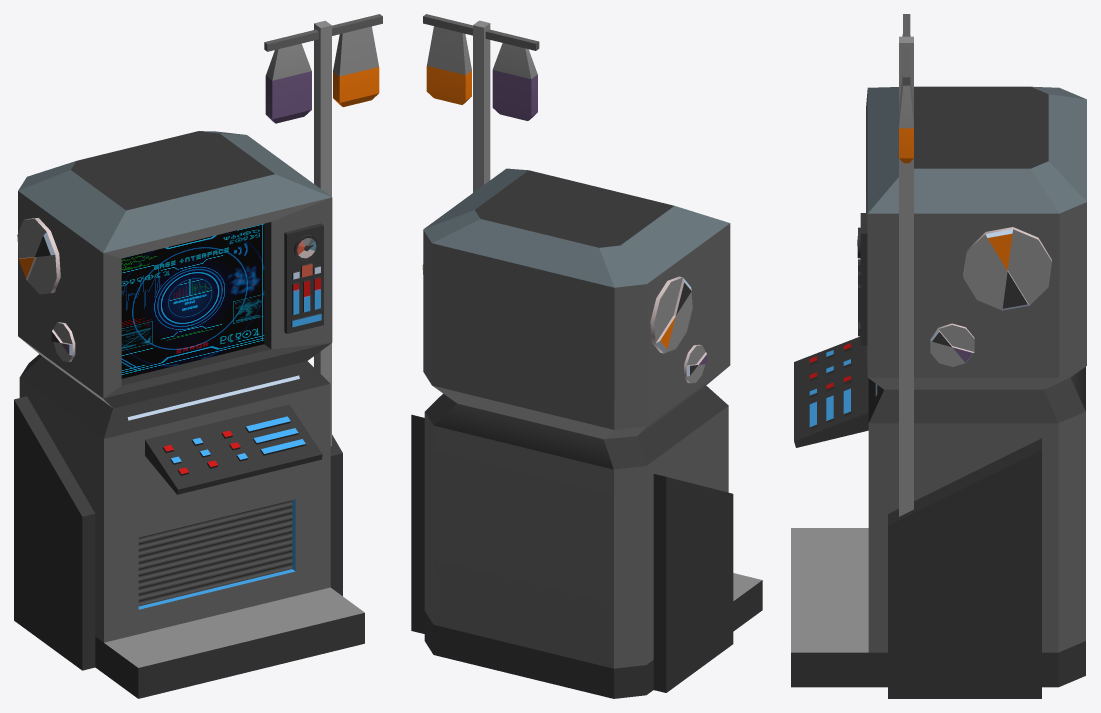
Rendered from Equipment_1_SciFi.fbx.
3 views of the same model, side by side, from view 1: azimuth 30°, elevation 25°; view 2: azimuth 150°, elevation 25°; view 3: azimuth 270°, elevation 25° (orthographic). The views are drawn at different scales.
Visible parts, largest first — view 1: Equipment_1_SciFi, Equipment_Cylinder_1, Equipment_Cylinder_2; view 2: Equipment_1_SciFi, Equipment_Cylinder_1, Equipment_Cylinder_2; view 3: Equipment_1_SciFi, Equipment_Cylinder_1, Equipment_Cylinder_2.
Part boxes in pixels (x1,y1,x2,y2): Equipment_1_SciFi: (14,14,382,698); Equipment_Cylinder_1: (17,218,60,294); Equipment_Cylinder_2: (51,322,75,361); Equipment_1_SciFi: (411,14,762,698); Equipment_Cylinder_1: (422,264,692,353); Equipment_Cylinder_2: (684,344,706,383); Equipment_1_SciFi: (791,14,1086,698); Equipment_Cylinder_1: (963,227,1051,310); Equipment_Cylinder_2: (930,323,974,366).
Size of the model in its own units: 136 by 244 by 100.
